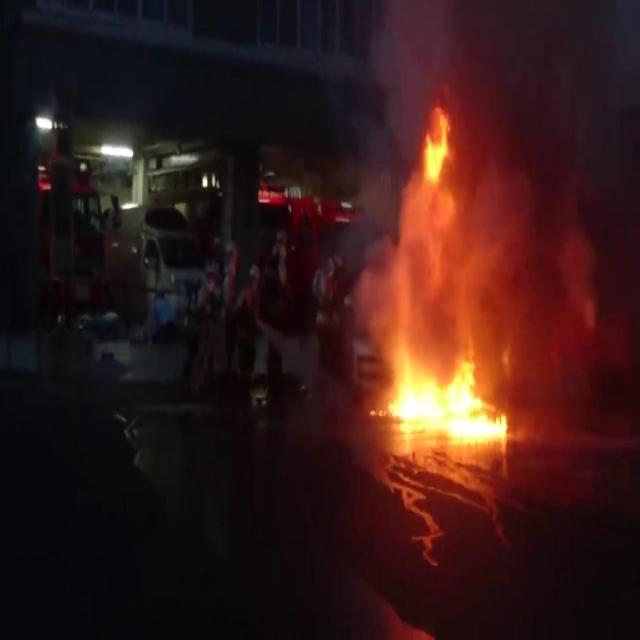Fire: (387, 357, 507, 441), (422, 110, 452, 179)
